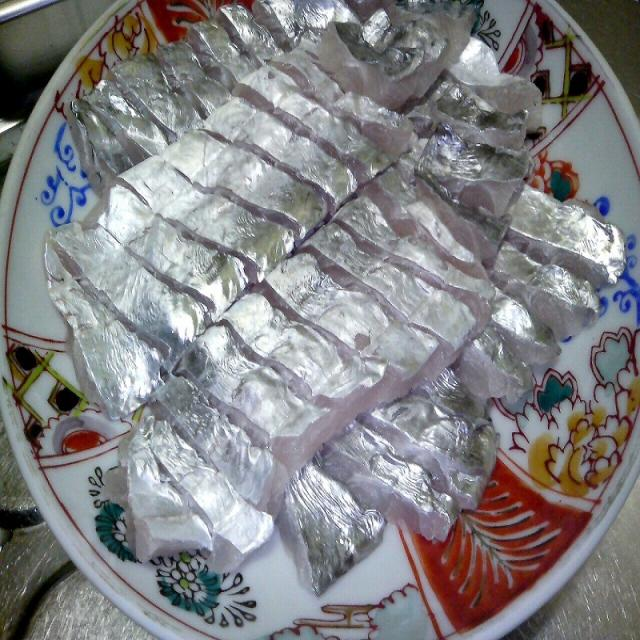刺身生食: (22, 0, 639, 640)
